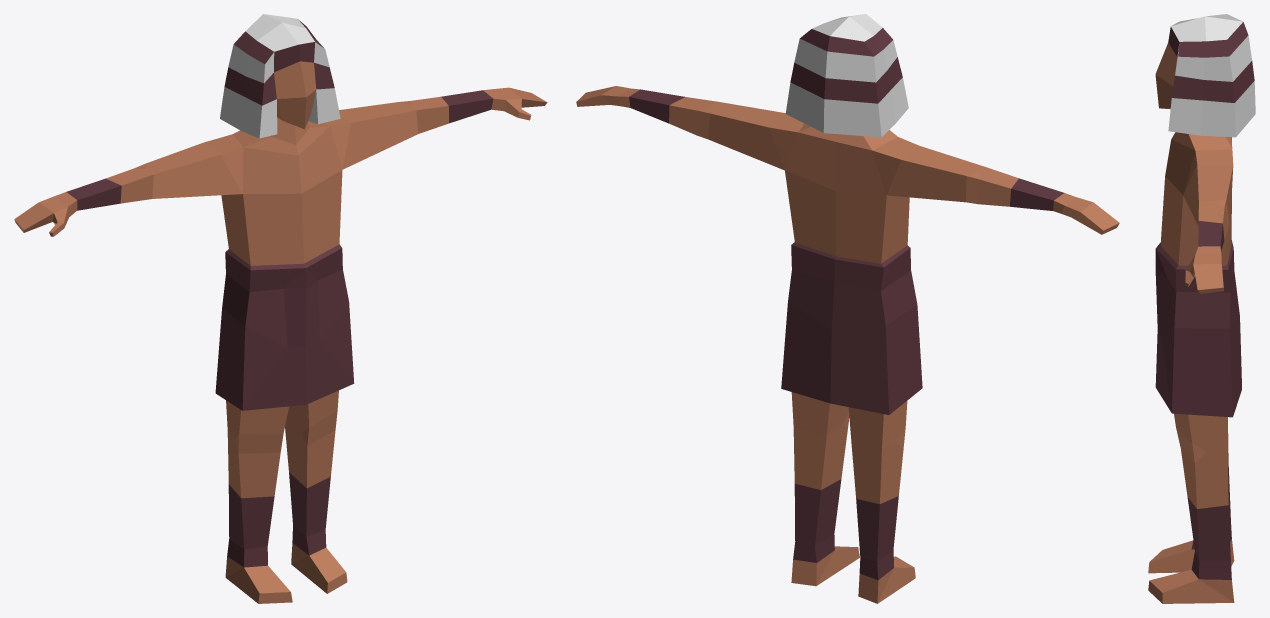
The model's file is man-egypt-soldier_Rig.fbx.
3 renders of one model, left to right at view 1: azimuth 30°, elevation 25°; view 2: azimuth 150°, elevation 25°; view 3: azimuth 270°, elevation 25°, orthographic.
Parts seen in each view (by area): view 1: man-egypt-soldier_Rig; view 2: man-egypt-soldier_Rig; view 3: man-egypt-soldier_Rig.
Part boxes in pixels (<box>): man-egypt-soldier_Rig: <box>14,14,547,603</box>; man-egypt-soldier_Rig: <box>576,14,1119,603</box>; man-egypt-soldier_Rig: <box>1148,14,1255,603</box>.
Size of the model in its own units: 1.83 by 1.85 by 0.3196.
